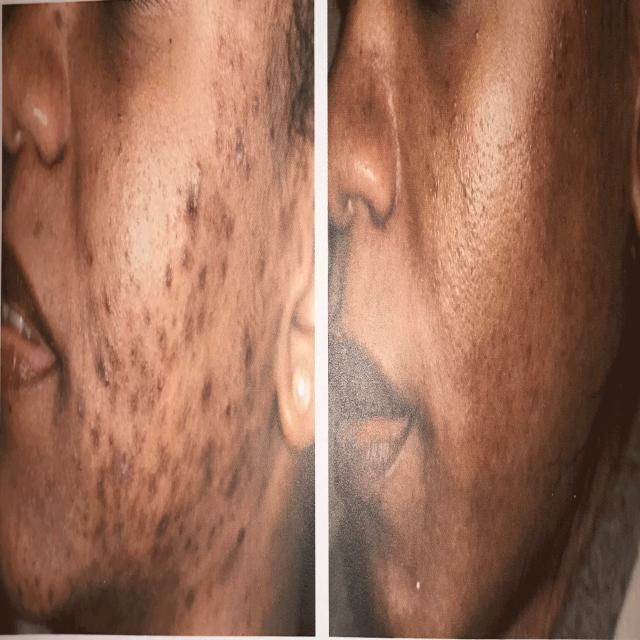Acne: (146, 285, 199, 416), (59, 439, 104, 563), (86, 337, 132, 458), (135, 452, 173, 567), (176, 170, 221, 264), (179, 442, 220, 534)
